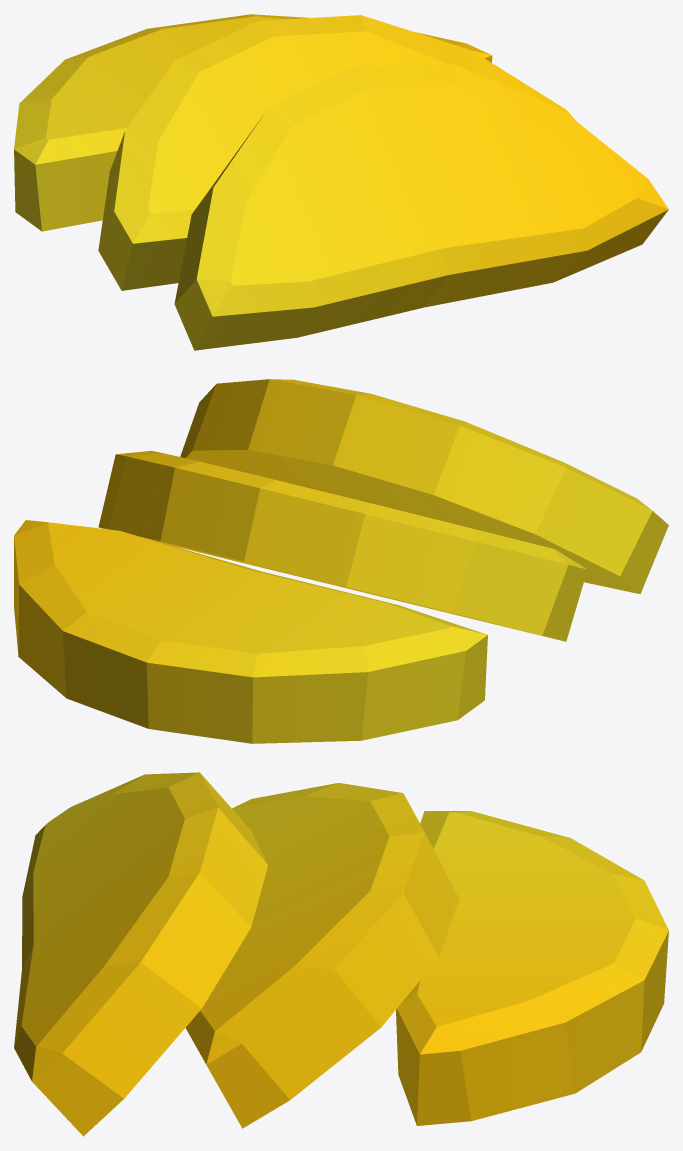
The model's file is Durian Slice.fbx.
The picture shows the model from 3 angles, top to bottom: view 1: azimuth 30°, elevation 25°; view 2: azimuth 150°, elevation 25°; view 3: azimuth 270°, elevation 25°; orthographic projection. The views are drawn at different scales.
Visible parts, largest first — view 1: Durian Slice.002, Durian Slice.001, Durian Slice; view 2: Durian Slice, Durian Slice.002, Durian Slice.001; view 3: Durian Slice, Durian Slice.002, Durian Slice.001.
Part boxes in pixels (box(x1,y1,x2,y2)): Durian Slice.002: box(174, 64, 668, 350); Durian Slice.001: box(98, 15, 575, 290); Durian Slice: box(14, 14, 492, 231); Durian Slice: box(14, 520, 487, 743); Durian Slice.002: box(180, 379, 668, 594); Durian Slice.001: box(98, 450, 587, 641); Durian Slice: box(396, 811, 668, 1125); Durian Slice.002: box(14, 772, 268, 1136); Durian Slice.001: box(185, 783, 459, 1128).
Bounding box in the file's own units: 11.77 × 4.91 × 13.38.
